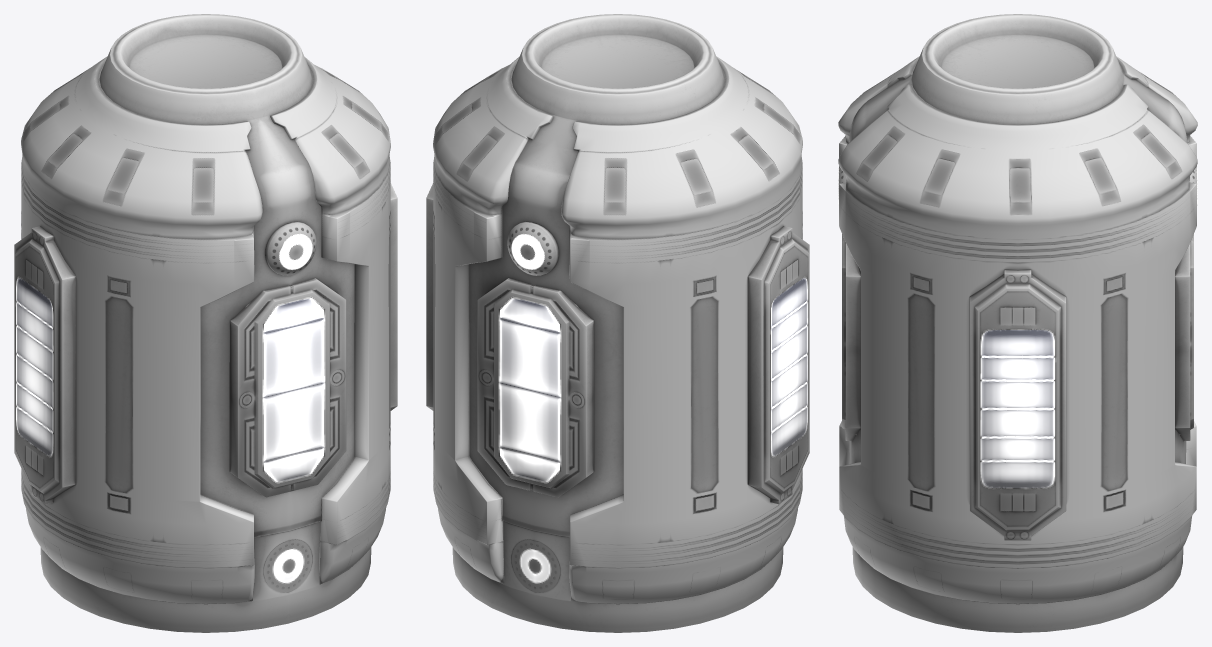
File: Barrel01.FBX
3 renders of one model, left to right at view 1: azimuth 30°, elevation 25°; view 2: azimuth 150°, elevation 25°; view 3: azimuth 270°, elevation 25°, orthographic.
Visible parts, largest first — view 1: Barrel01; view 2: Barrel01; view 3: Barrel01.
Part boxes in pixels (bbox=[...]): Barrel01: bbox=[14, 14, 397, 632]; Barrel01: bbox=[426, 14, 809, 632]; Barrel01: bbox=[838, 14, 1197, 632].
Size of what is drawn, in the model's own units: 0.747 by 1.06 by 0.678.
